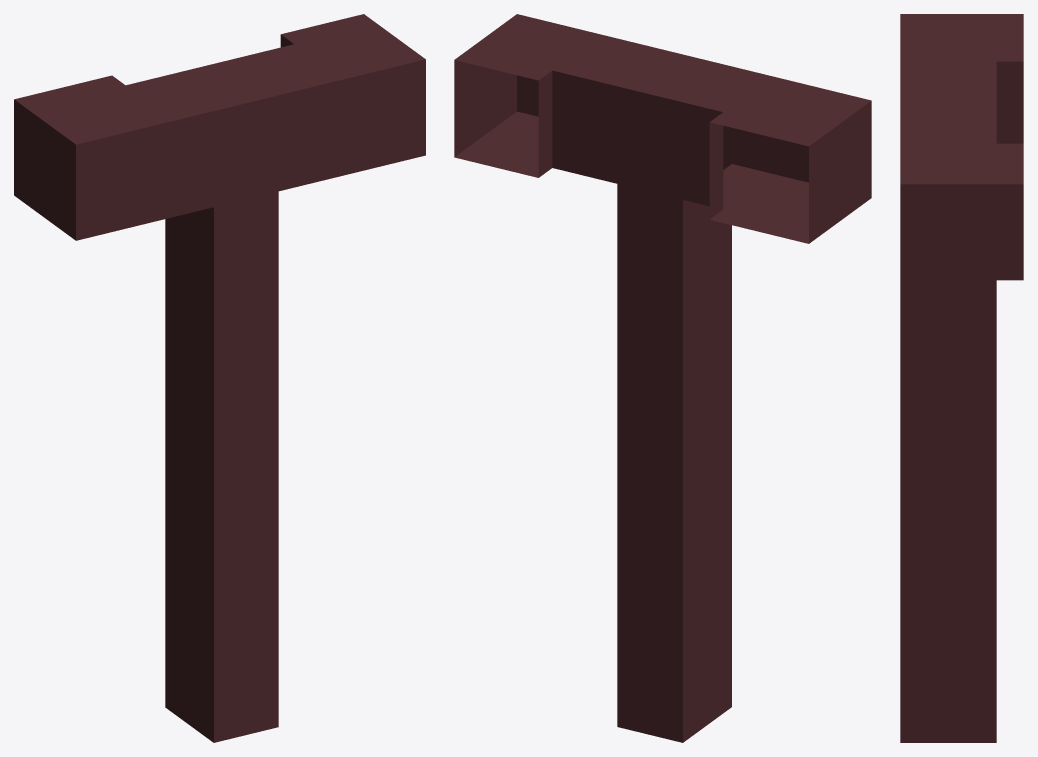
Rendered from SM_Stairs_Rail_3_01.fbx.
The picture shows the model from 3 angles, left to right: view 1: azimuth 30°, elevation 25°; view 2: azimuth 150°, elevation 25°; view 3: azimuth 270°, elevation 25°; orthographic projection.
Parts seen in each view (by area): view 1: SM_Stairs_Rail_3_01; view 2: SM_Stairs_Rail_3_01; view 3: SM_Stairs_Rail_3_01.
Part boxes in pixels (box(x1,y1,x2,y2)): SM_Stairs_Rail_3_01: box(14, 14, 425, 742); SM_Stairs_Rail_3_01: box(454, 14, 871, 742); SM_Stairs_Rail_3_01: box(900, 14, 1023, 742).
Size of the model in its own units: 48.89 by 84.39 by 14.99.
